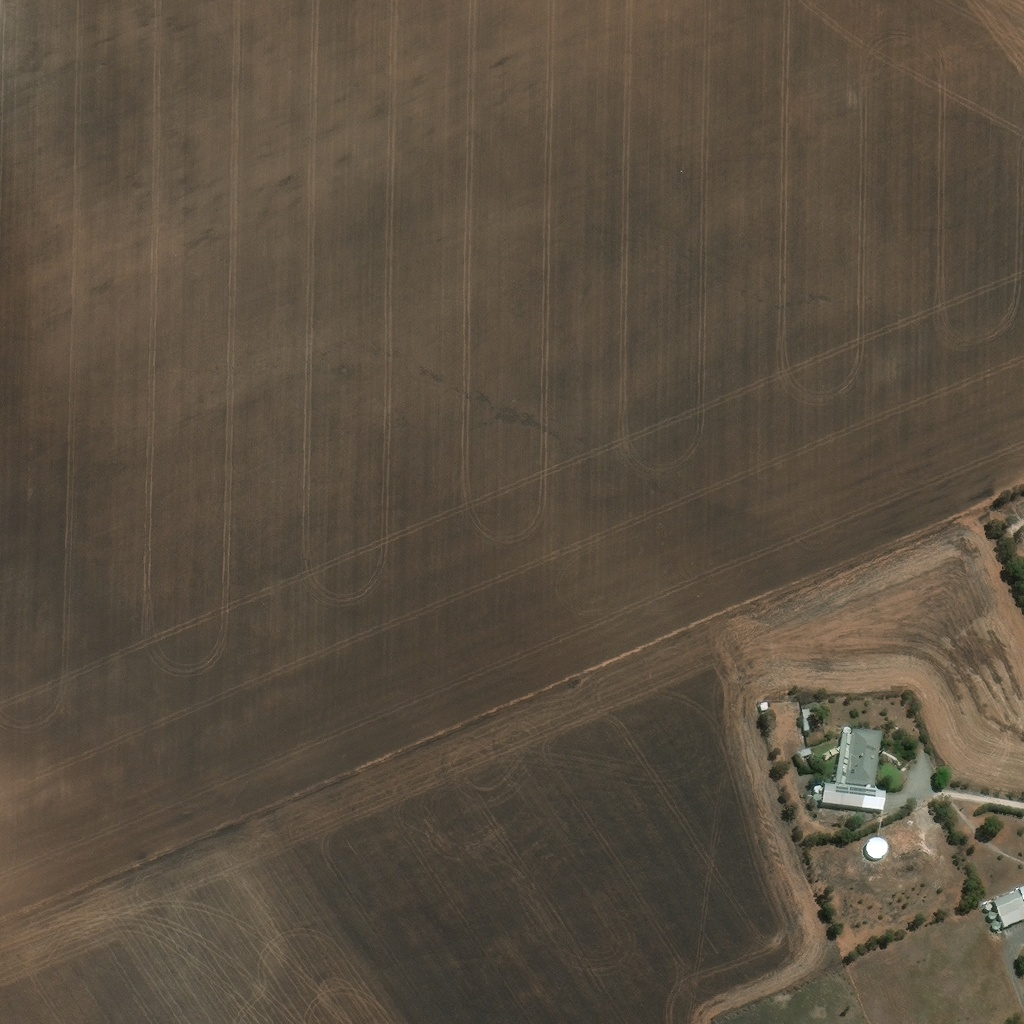0 no-damage: (819, 730, 886, 816), (991, 894, 1023, 931), (864, 841, 886, 862), (916, 819, 927, 836), (801, 712, 808, 732), (841, 728, 850, 738), (759, 704, 768, 713), (986, 916, 995, 924), (811, 796, 820, 804), (990, 927, 999, 934), (812, 789, 821, 796), (983, 907, 991, 914), (946, 855, 954, 860)
